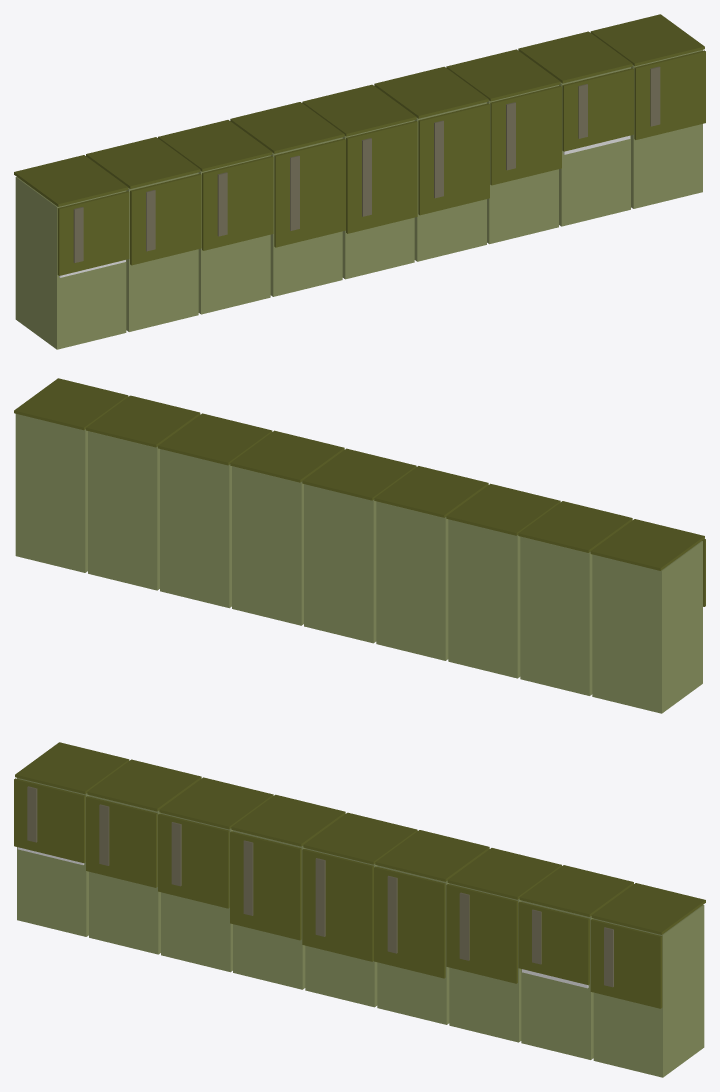
Rendered from SM_MuroHesco_v4_Red_e0_Sano_LOD1.fbx.
3 views of the same model, one above another, from view 1: azimuth 30°, elevation 25°; view 2: azimuth 150°, elevation 25°; view 3: azimuth 330°, elevation 25° (orthographic).
Parts seen in each view (by area): view 1: SM_bloques.muro_hesco_estados_v16_LOD1; view 2: SM_bloques.muro_hesco_estados_v16_LOD1; view 3: SM_bloques.muro_hesco_estados_v16_LOD1.
Boxes of the visible parts, x1,y1,x2,y2 form: SM_bloques.muro_hesco_estados_v16_LOD1: (14,14,705,349); SM_bloques.muro_hesco_estados_v16_LOD1: (14,378,705,713); SM_bloques.muro_hesco_estados_v16_LOD1: (14,742,705,1077).
Bounding box in the file's own units: 9.97 × 2.16 × 1.23.
